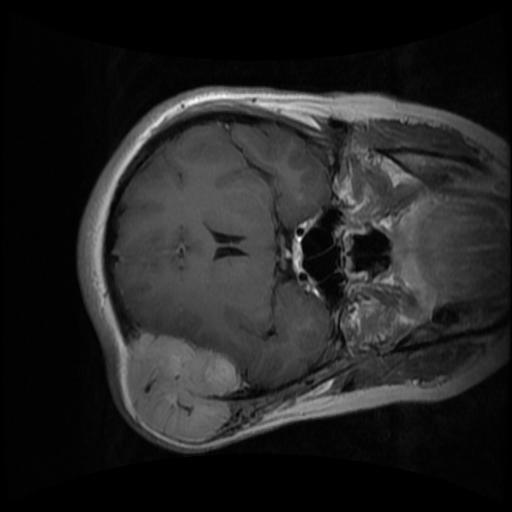meningioma: (125, 334, 241, 441)
